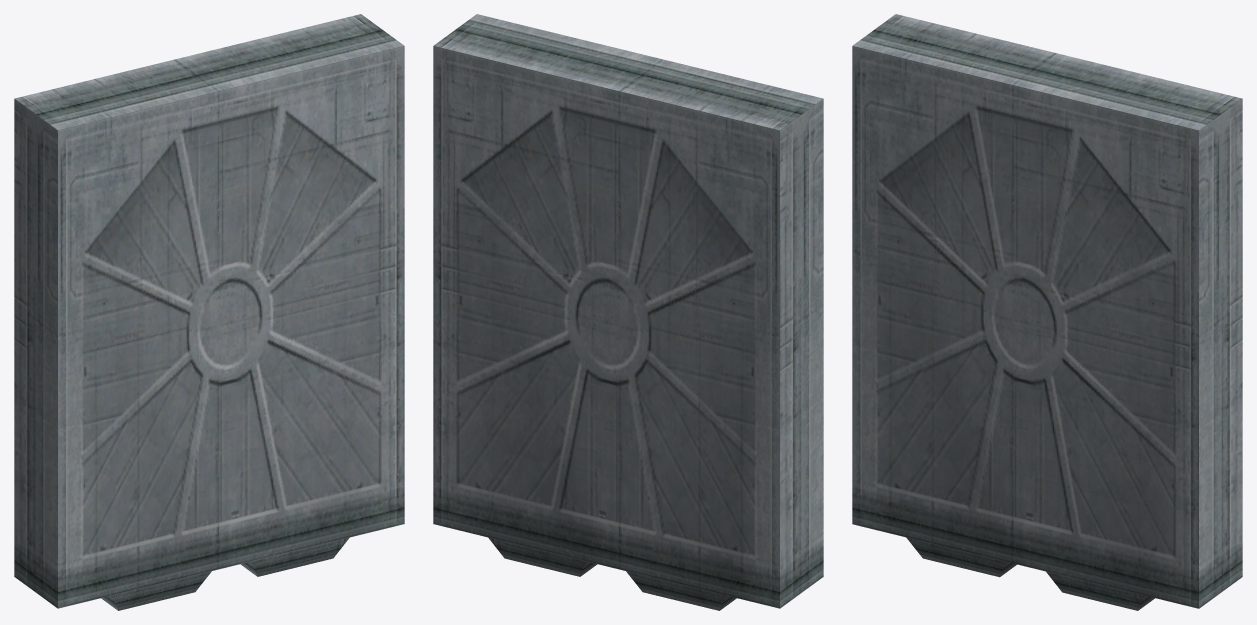
Rendered from door_newbiehall_l0.fbx.
3 views of the same model, side by side, from view 1: azimuth 30°, elevation 25°; view 2: azimuth 150°, elevation 25°; view 3: azimuth 330°, elevation 25° (orthographic).
Visible parts, largest first — view 1: mesh_node; view 2: mesh_node; view 3: mesh_node.
Boxes of the visible parts, left/top/right/bottom form: mesh_node: left=14, top=14, right=404, bottom=610; mesh_node: left=433, top=14, right=823, bottom=610; mesh_node: left=852, top=14, right=1242, bottom=610.
Bounding box in the file's own units: 3.08 × 4.25 × 0.6706.
Materials: 1 (1 with a texture image).
